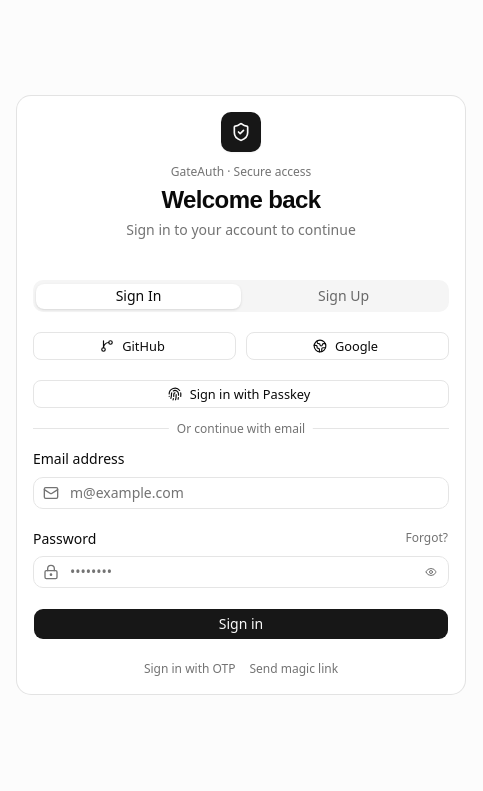
it: LoginPage › switches to sign-up mode
Click the tab "Sign Up" at (344, 296), box [241,284,446,309]
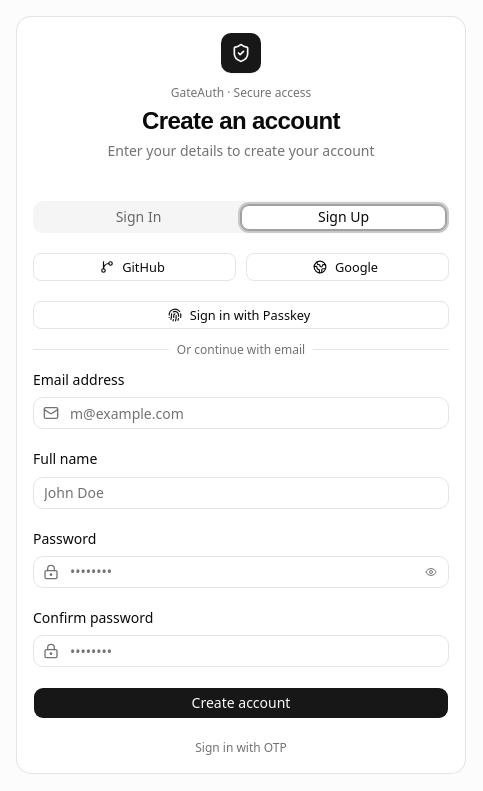
Now the text "Create an account" is shown, box [142,107,340,134]
Now the text "Full name" is shown, box [33,449,97,468]
